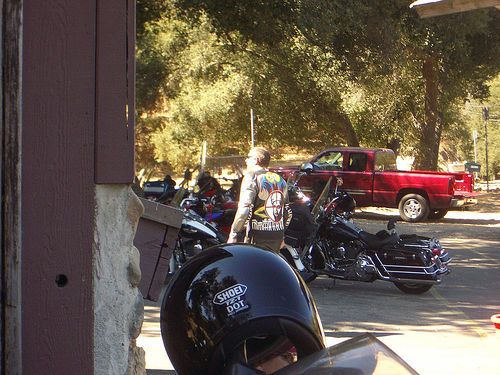helmet: (160, 246, 325, 354)
